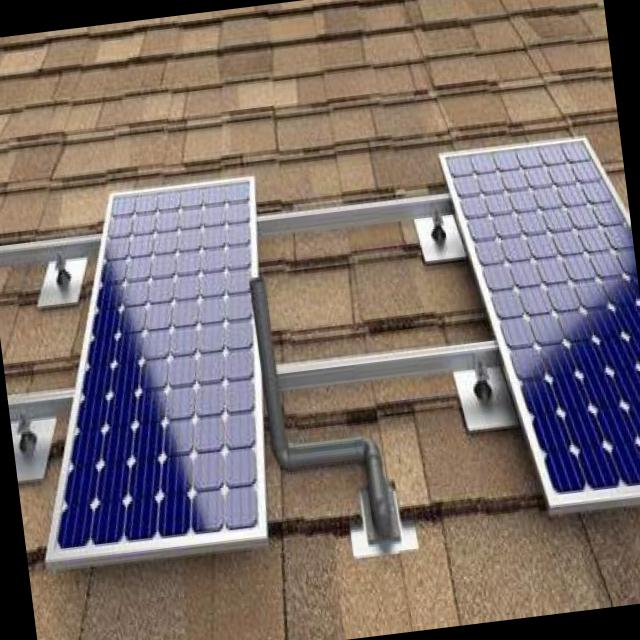no faulty: (49, 186, 259, 545), (447, 136, 640, 487)
